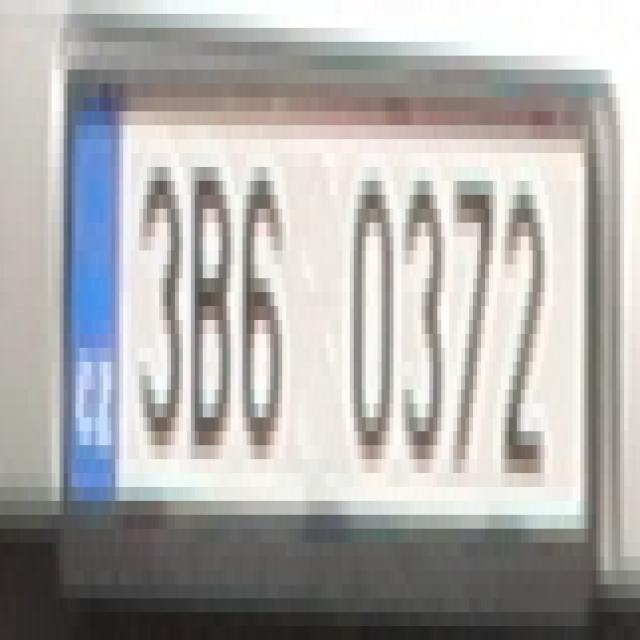0: (350, 167, 393, 459)
2: (497, 195, 548, 487)
3: (398, 167, 445, 459), (131, 153, 179, 417)
6: (239, 153, 286, 445)
7: (449, 153, 493, 473)
B: (187, 153, 230, 445)
